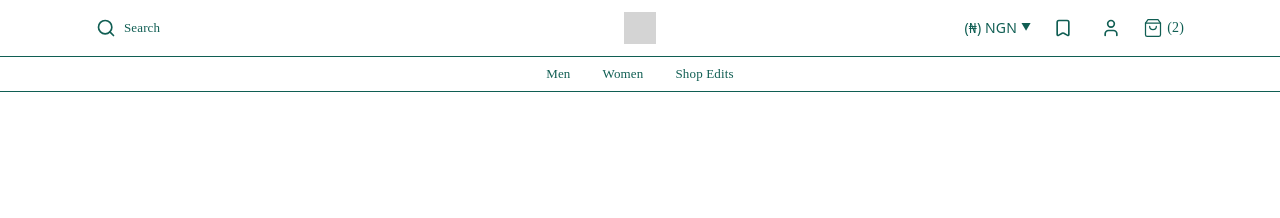
it: Header Account Navigation › renders guest menu in account dropdown when not logged in
Expected: the text "Sign In" is not shown
# Click to open dropdown
Click the button named "Account". click: (1111,28)
box: [1095,12,1127,44]
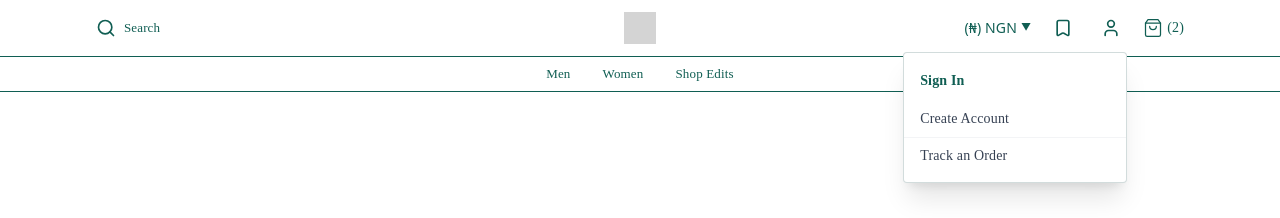
Expected: the link "Sign In" is shown, [920,73,964,88]
Expected: the link "Create Account" is shown, [920,111,1009,126]
Expected: the link "Track an Order" is shown, [904,137,1126,174]
